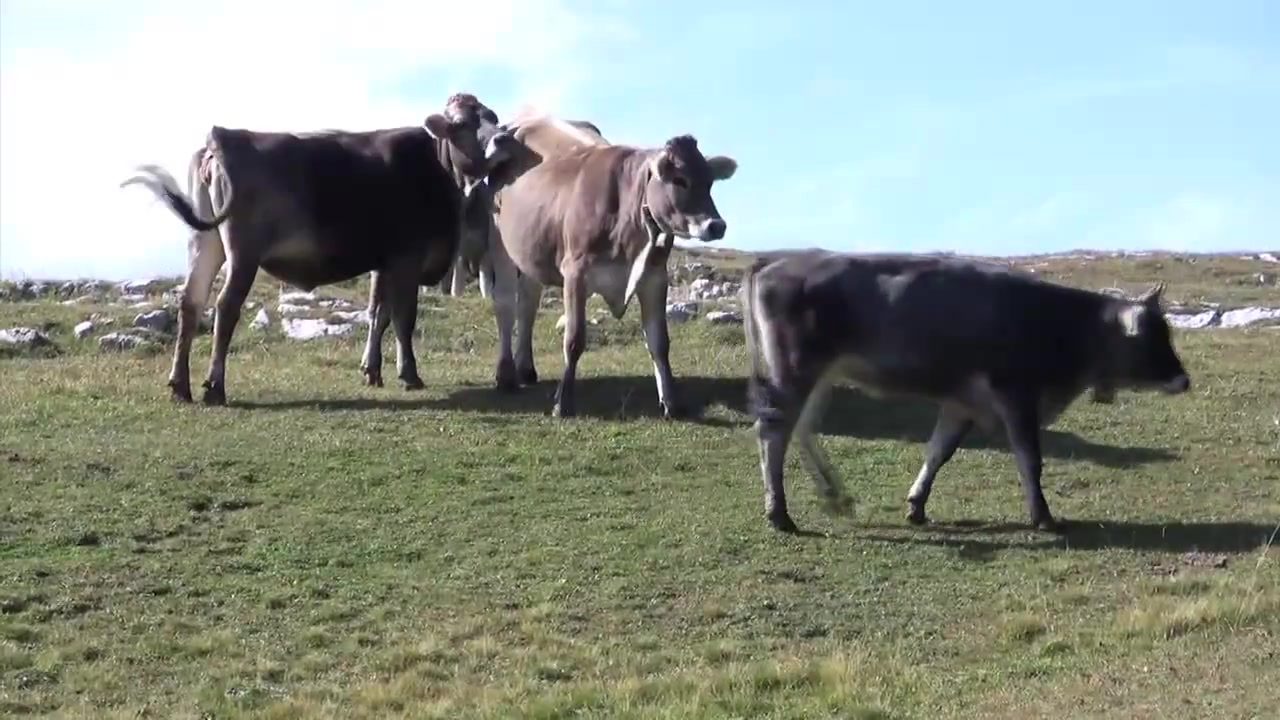cow: (164, 87, 525, 408)
